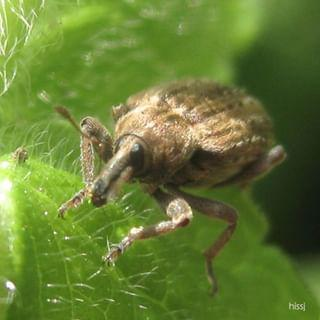weevils: (19, 23, 310, 315)
